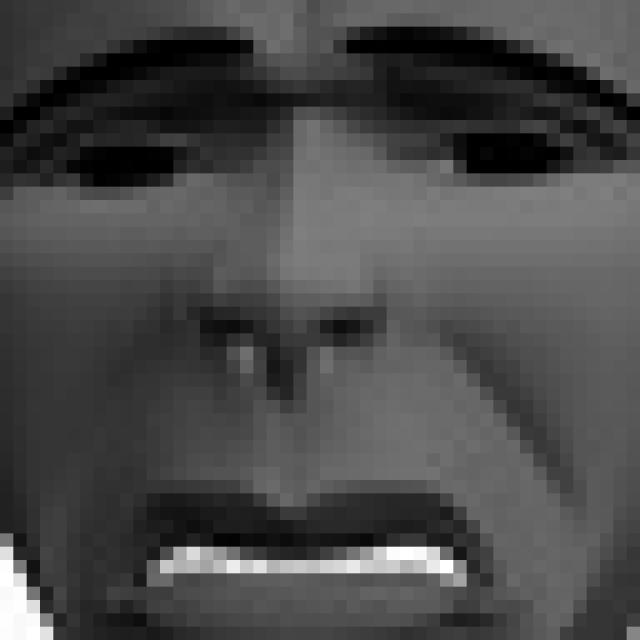disgust: (24, 20, 584, 640)
